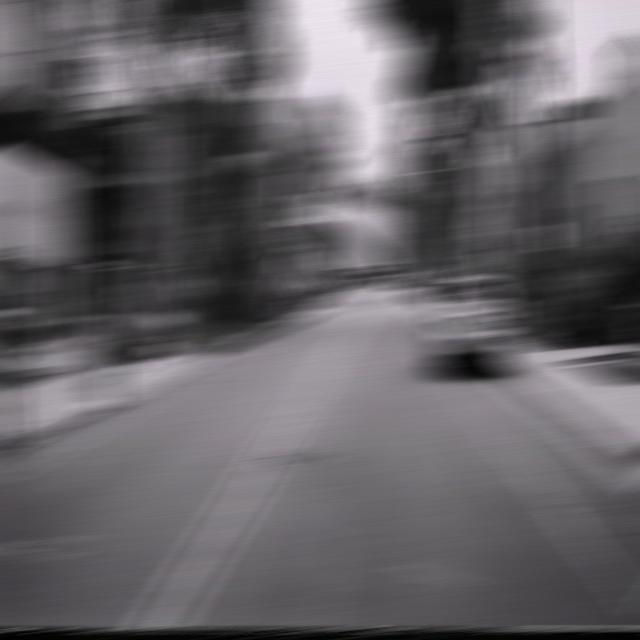pedestrianCrossing: (420, 246, 445, 264)
